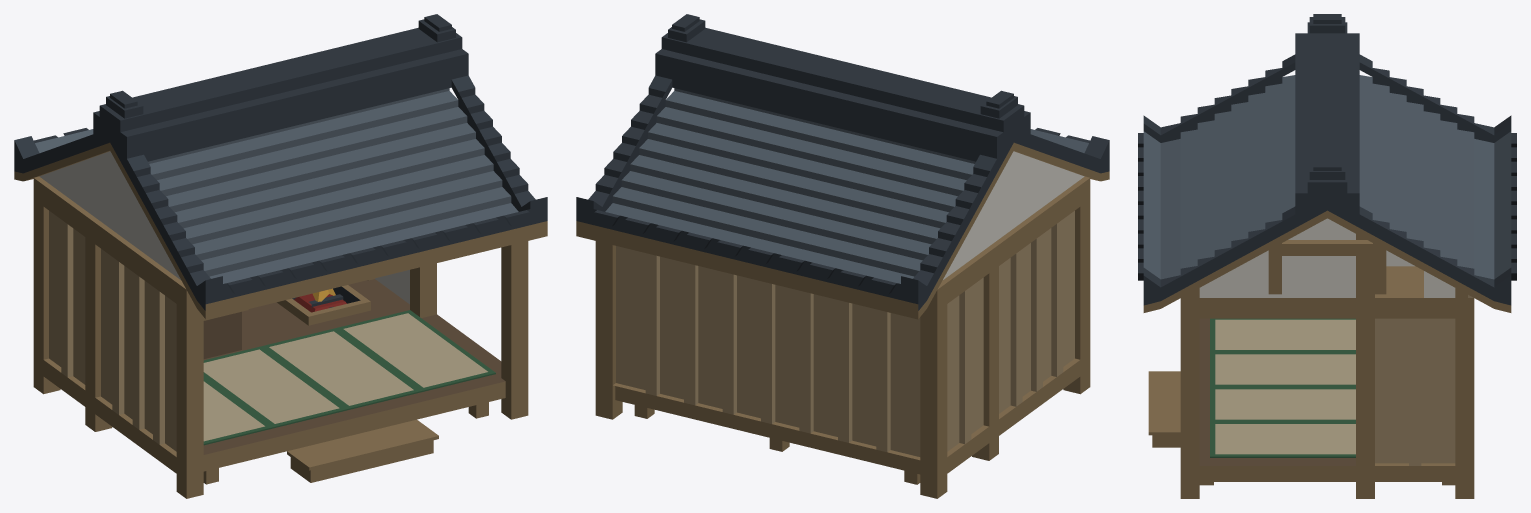
The model's file is open-front-teahouse-c7dd18.glb.
3 views of the same model, side by side, from view 1: azimuth 30°, elevation 25°; view 2: azimuth 150°, elevation 25°; view 3: azimuth 270°, elevation 25° (orthographic). The views are drawn at different scales.
Visible parts, largest first — view 1: chaya-shell; view 2: chaya-shell; view 3: chaya-shell.
Part boxes in pixels (<box>): chaya-shell: <box>14,14,547,498</box>; chaya-shell: <box>576,14,1109,498</box>; chaya-shell: <box>1138,14,1516,498</box>.
Bounding box in the file's own units: 4 × 3.83 × 4.
